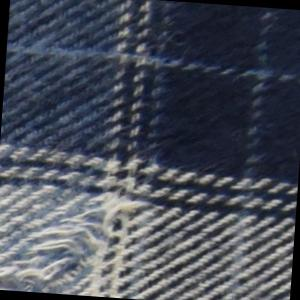Damage: (1, 159, 152, 300)
